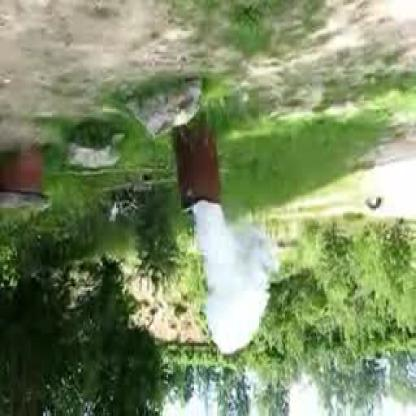Smoke: (193, 209, 274, 354)
